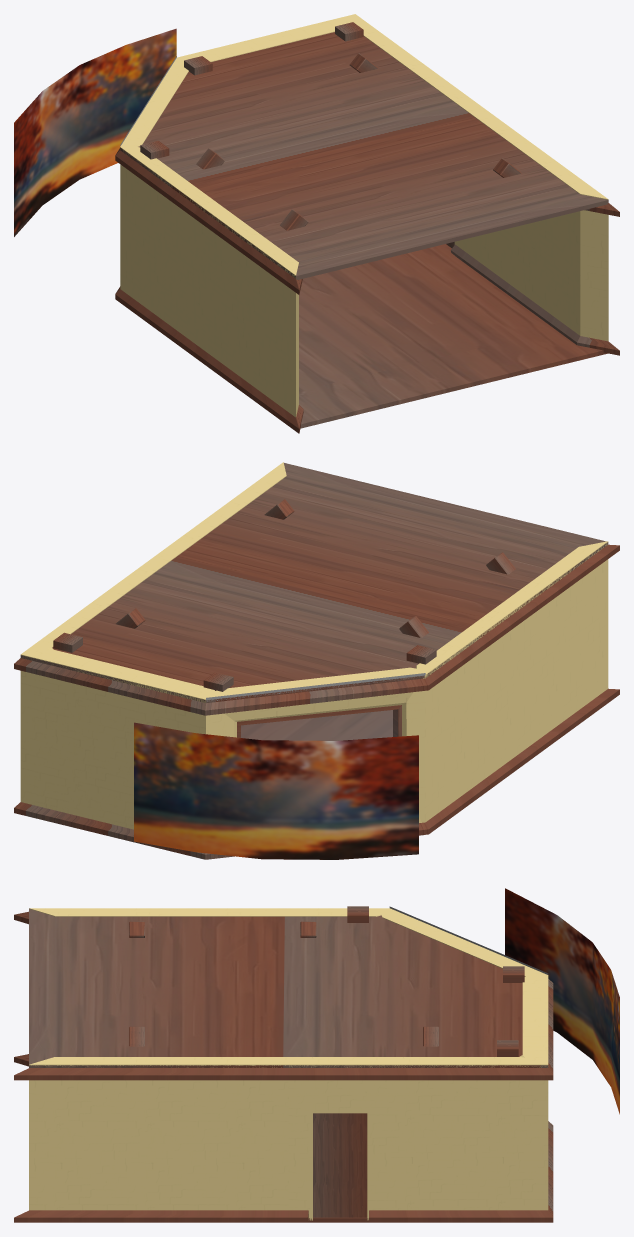
Rendered from sm_Room.fbx.
The picture shows the model from 3 angles, top to bottom: view 1: azimuth 30°, elevation 25°; view 2: azimuth 150°, elevation 25°; view 3: azimuth 270°, elevation 25°; orthographic projection. The views are drawn at different scales.
Parts seen in each view (by area): view 1: pCube45; view 2: pCube45; view 3: pCube45.
Part boxes in pixels (x1,y1,x2,y2): pCube45: (14, 14, 619, 433); pCube45: (14, 462, 619, 859); pCube45: (14, 888, 619, 1222).
Bounding box in the file's own units: 90.26 × 39.57 × 126.
5 materials, 3 textured.
